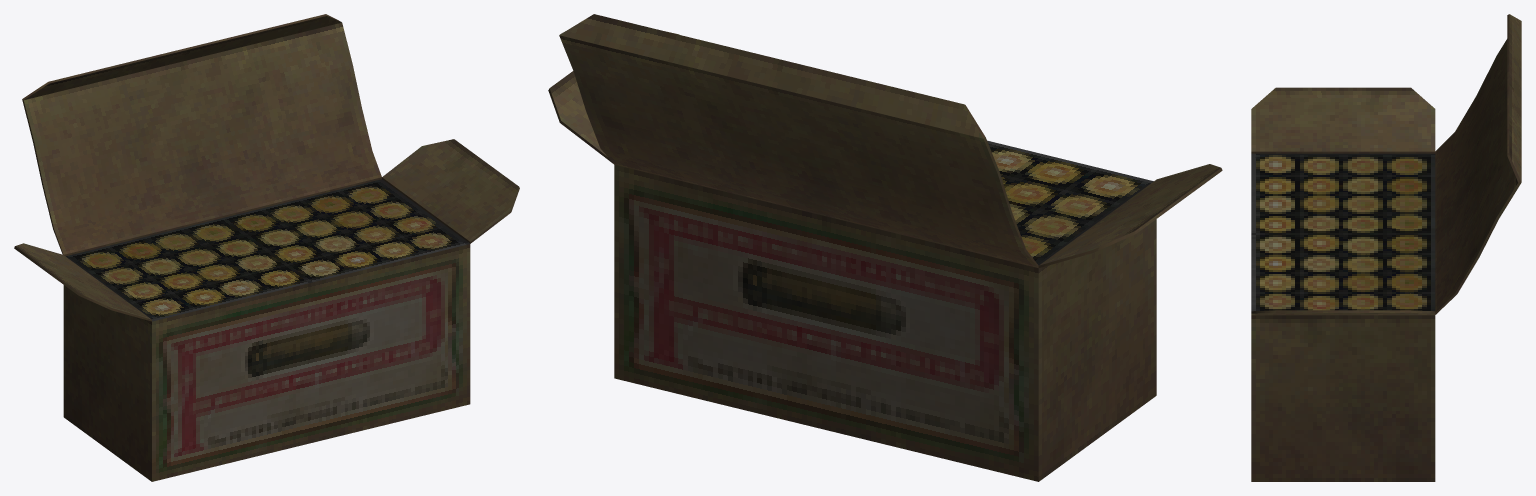
Rendered from ammo_box_mp_3.glb.
3 renders of one model, left to right at view 1: azimuth 30°, elevation 25°; view 2: azimuth 150°, elevation 25°; view 3: azimuth 270°, elevation 25°, orthographic. The views are drawn at different scales.
Visible parts, largest first — view 1: ammo_box_mp_3; view 2: ammo_box_mp_3; view 3: ammo_box_mp_3.
Part boxes in pixels (<box>): ammo_box_mp_3: <box>14,14,519,481</box>; ammo_box_mp_3: <box>548,14,1222,481</box>; ammo_box_mp_3: <box>1251,14,1521,481</box>.
Size of the model in its own units: 0.2159 by 0.1424 by 0.1101.
1 material, 1 textured.
